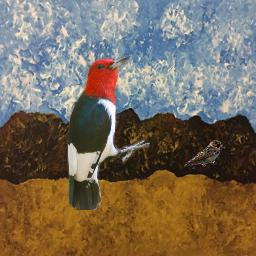Swallow: (184, 140, 223, 168)
Woodpecker: (66, 55, 150, 210)
